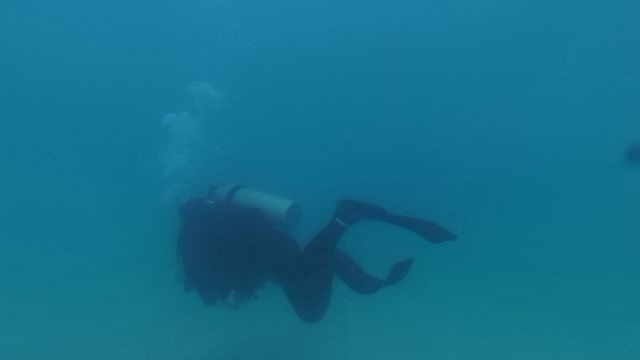Diver: (166, 175, 459, 327)
